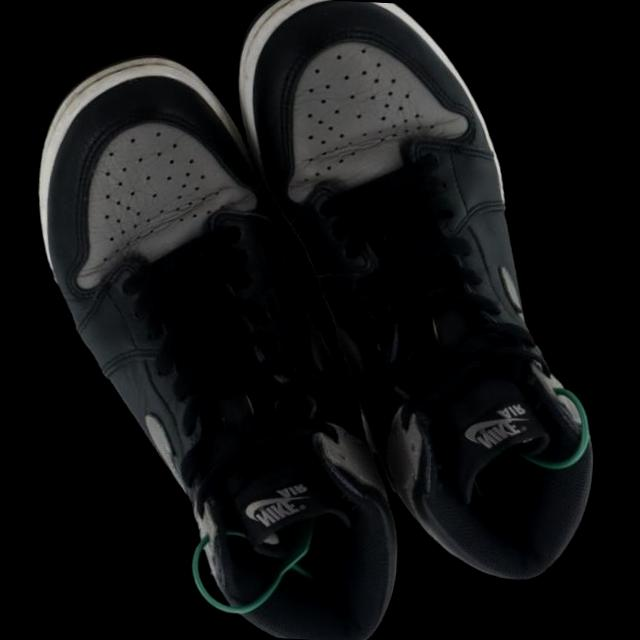nike_original_jordan: (0, 10, 485, 640), (163, 0, 640, 624)
